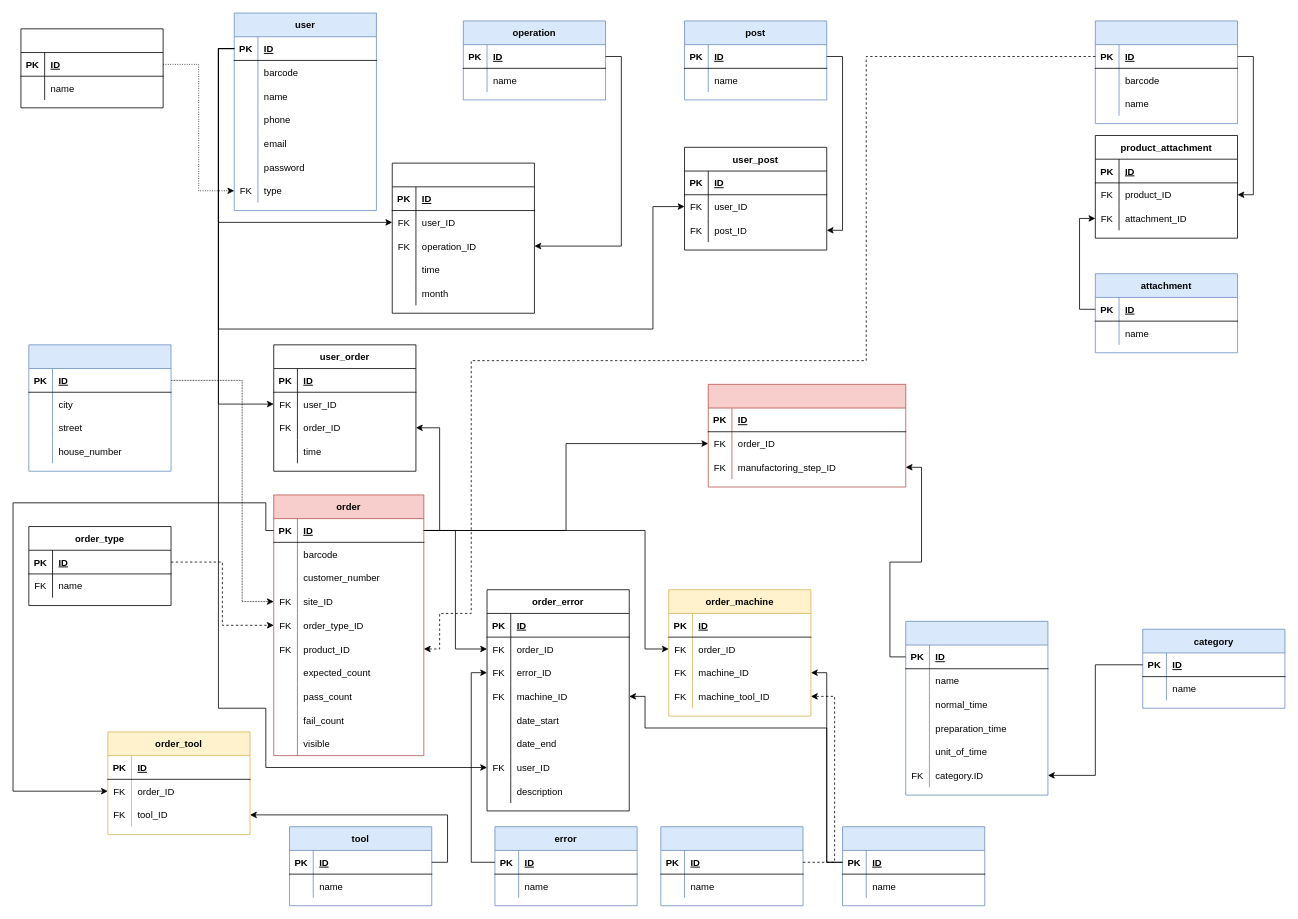
The diagram is 1298 pixels wide and 919 high, and some of its shapes have lost their labels. The box of each missing label's shape, as (x1, y1, x2, y2) in pixels:
machine: (842, 826, 985, 906)
machine_tool: (660, 826, 803, 906)
manufactoring_step: (905, 621, 1048, 795)
order_manufacturing_step: (707, 384, 906, 487)
product: (1095, 20, 1238, 124)
site: (28, 344, 171, 471)
user_operation: (391, 162, 534, 313)
user_type: (20, 28, 163, 108)
